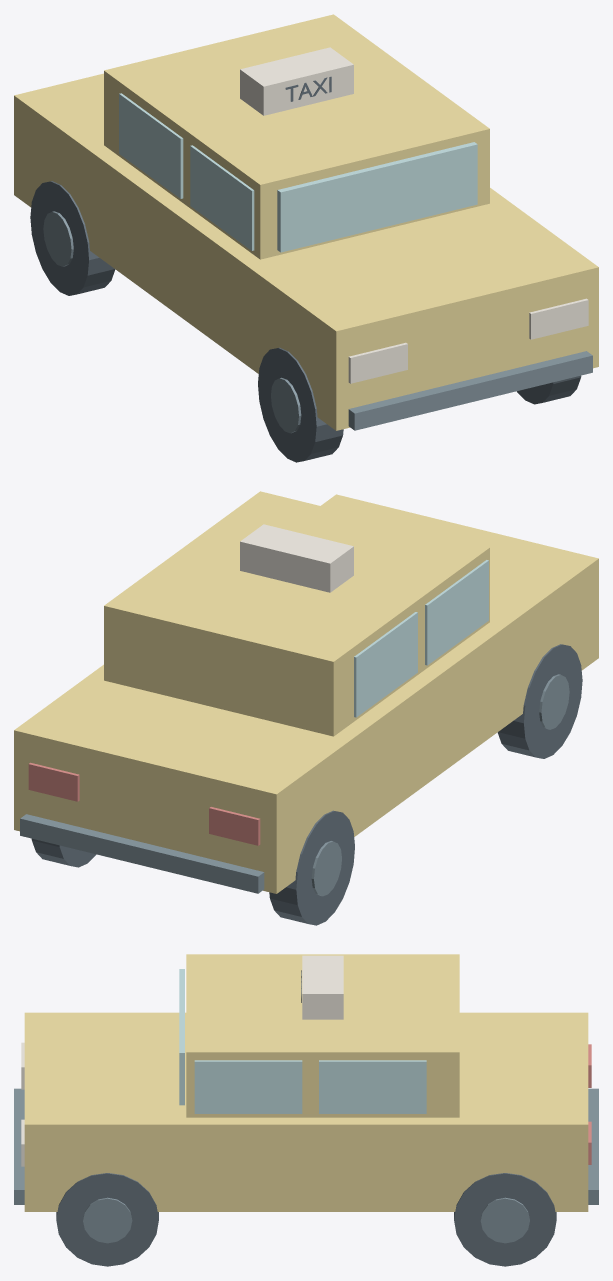
Rendered from taxi.glb.
The picture shows the model from 3 angles, top to bottom: view 1: azimuth 30°, elevation 25°; view 2: azimuth 150°, elevation 25°; view 3: azimuth 270°, elevation 25°; orthographic projection. The views are drawn at different scales.
Parts seen in each view (by area): view 1: taxi_000, taxi_009, taxi_010, taxi_021, taxi_023, taxi_001, taxi_003, taxi_011, taxi_012, taxi_017, taxi_019, taxi_004 (+2 smaller); view 2: taxi_000, taxi_009, taxi_022, taxi_023, taxi_003, taxi_001, taxi_012, taxi_011, taxi_020, taxi_018, taxi_002, taxi_004 (+1 smaller); view 3: taxi_000, taxi_009, taxi_014, taxi_005, taxi_007, taxi_015, taxi_023, taxi_006, taxi_008, taxi_022, taxi_021, taxi_010.
Part boxes in pixels (x1,y1,x2,y2): taxi_000: (14,73,598,430); taxi_009: (104,14,489,259); taxi_010: (277,142,477,252); taxi_021: (348,351,592,430); taxi_023: (240,47,353,115); taxi_001: (258,347,343,462); taxi_003: (30,181,115,295); taxi_011: (190,145,254,250); taxi_012: (119,93,183,198); taxi_017: (348,342,407,383); taxi_019: (529,298,588,339); taxi_004: (43,211,73,266); taxi_000: (14,494,598,893); taxi_009: (104,491,489,736); taxi_022: (20,814,264,893); taxi_023: (240,524,353,592); taxi_003: (269,810,354,925); taxi_001: (497,644,582,758); taxi_012: (354,612,417,717); taxi_011: (425,560,488,665); taxi_020: (28,762,79,801); taxi_018: (209,807,260,845); taxi_002: (539,674,569,729); taxi_004: (311,841,341,896); taxi_000: (24,1012,588,1211); taxi_009: (186,954,459,1117); taxi_014: (194,1060,302,1113); taxi_005: (56,1173,158,1266); taxi_007: (454,1173,556,1266); taxi_015: (319,1060,426,1113); taxi_023: (302,955,343,1019); taxi_006: (83,1197,132,1243); taxi_008: (480,1197,529,1243); taxi_022: (588,1088,598,1204); taxi_021: (14,1088,24,1204); taxi_010: (179,969,184,1105).
Bounding box in the file's own units: 1.65 × 1.57 × 3.53.
